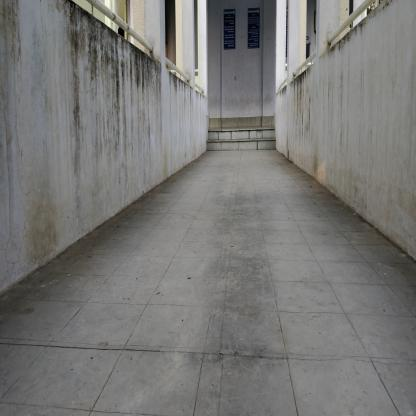stairs: (206, 123, 278, 159)
